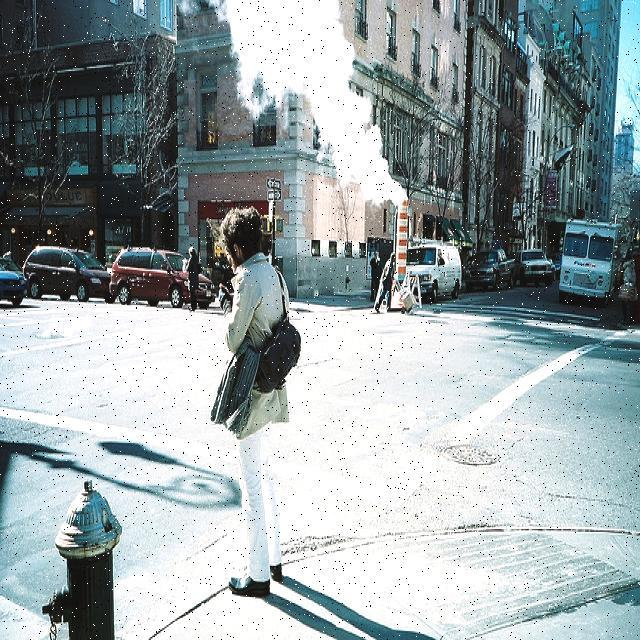fire_hydrant: (41, 476, 120, 628)
